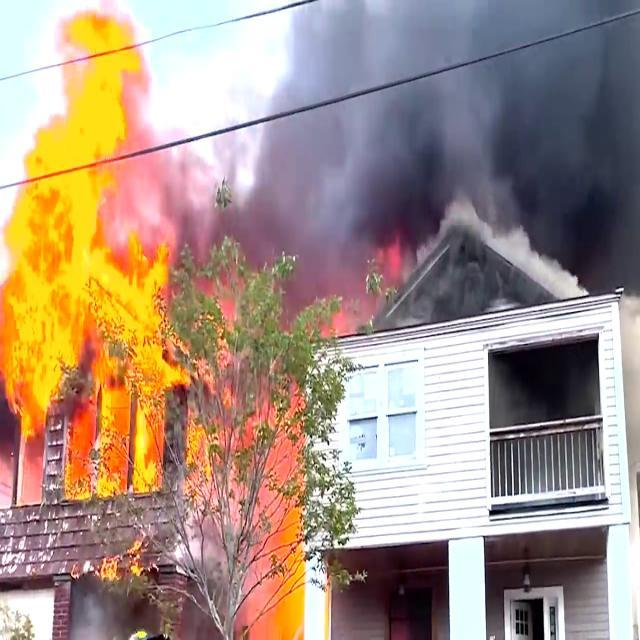Fire: (2, 11, 162, 482), (196, 273, 298, 640)
Smoke: (216, 0, 640, 219)
